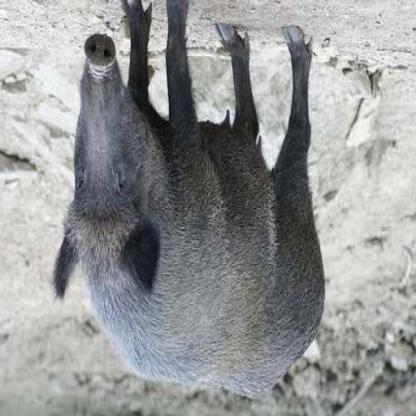boar: (50, 1, 331, 406)
